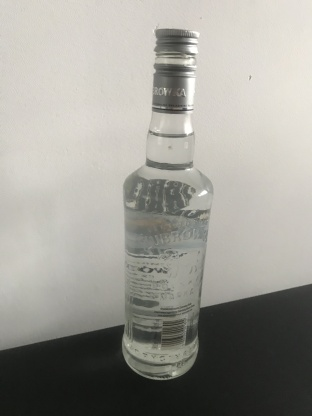nakretka: (150, 25, 201, 114)
